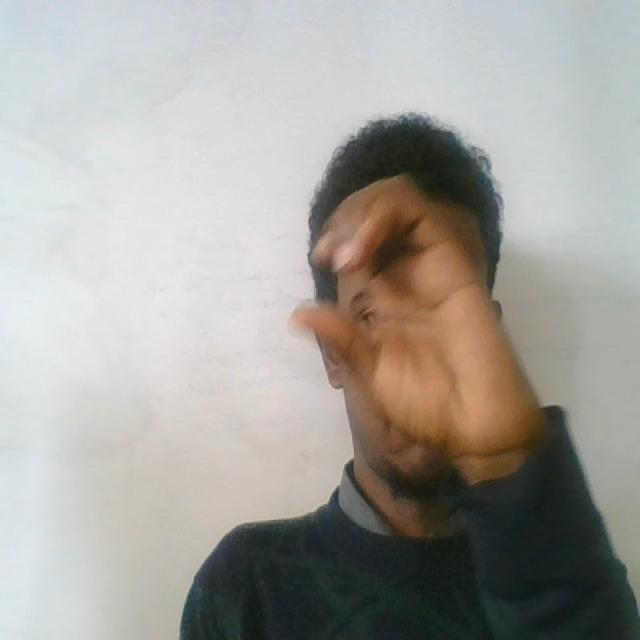no: (290, 172, 555, 445)
